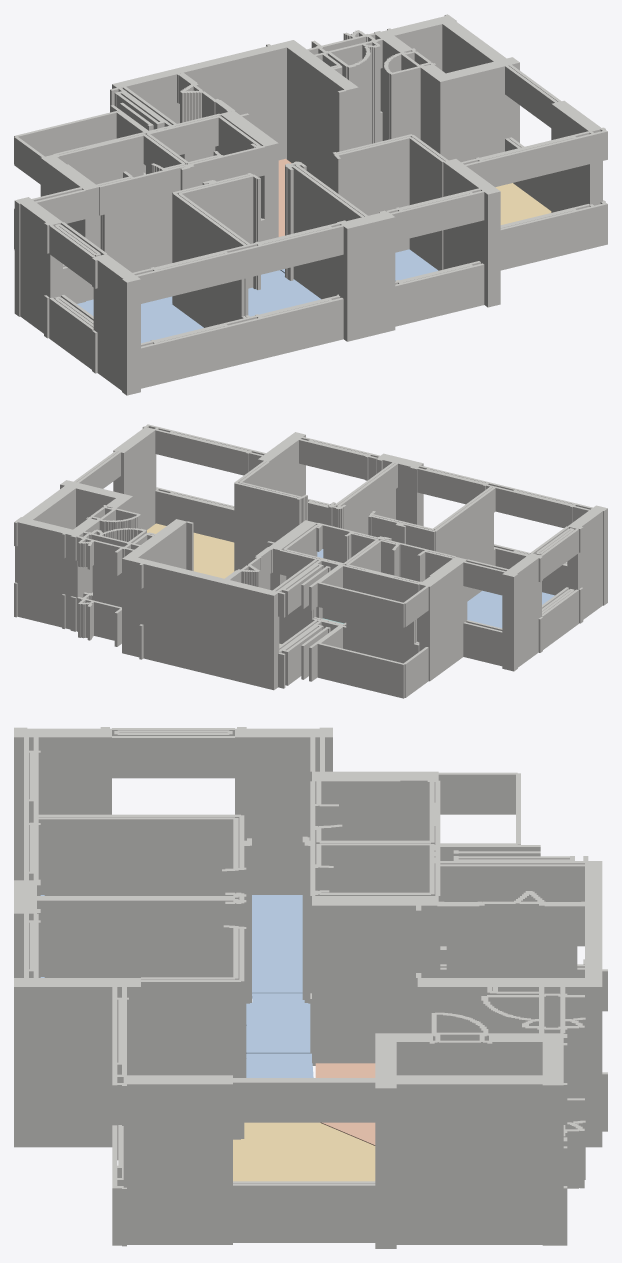
3 views of the same model, one above another, from view 1: azimuth 30°, elevation 25°; view 2: azimuth 150°, elevation 25°; view 3: azimuth 270°, elevation 25° (orthographic). The views are drawn at different scales.
Visible parts, largest first — view 1: walls, room:bedroom:6, room:bedroom:2, room:living:7, room:bedroom:8, room:kitchen:3; view 2: walls, room:living:7, room:bedroom:2; view 3: walls, room:living:7, room:bedroom:2, room:bedroom:6, room:bedroom:8, room:kitchen:3.
Part boxes in pixels (x1,y1,x2,y2): walls: [14, 14, 607, 395]; room:bedroom:6: [248, 270, 320, 316]; room:bedroom:2: [77, 296, 203, 343]; room:living:7: [495, 183, 551, 224]; room:bedroom:8: [280, 249, 438, 280]; room:kitchen:3: [278, 158, 291, 236]; walls: [14, 424, 607, 698]; room:living:7: [147, 523, 234, 578]; room:bedroom:2: [467, 590, 554, 628]; walls: [14, 727, 607, 1248]; room:living:7: [233, 1122, 375, 1181]; room:bedroom:2: [40, 895, 302, 993]; room:bedroom:6: [40, 977, 310, 1053]; room:bedroom:8: [246, 1053, 313, 1077]; room:kitchen:3: [315, 1063, 375, 1145].
Bounding box in the file's own units: 13.52 × 2.8 × 9.39.
